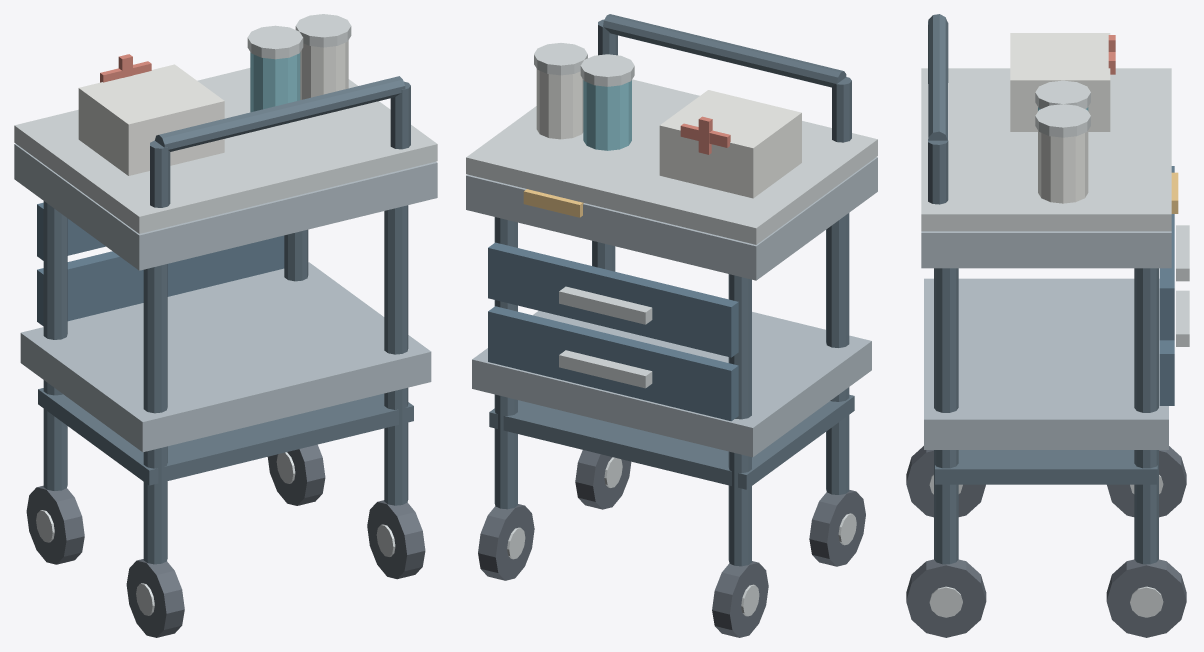
The model's file is infirmary_medical_trolley.glb.
3 views of the same model, side by side, from view 1: azimuth 30°, elevation 25°; view 2: azimuth 150°, elevation 25°; view 3: azimuth 270°, elevation 25° (orthographic). The views are drawn at different scales.
Visible parts, largest first — view 1: infirmary_medical_trolley:steel, infirmary_medical_trolley:steel_dark, infirmary_medical_trolley:steel_light, infirmary_medical_trolley:white, infirmary_medical_trolley:rubber, infirmary_medical_trolley:navy, infirmary_medical_trolley:plastic_blue, infirmary_medical_trolley:red; view 2: infirmary_medical_trolley:steel, infirmary_medical_trolley:steel_light, infirmary_medical_trolley:steel_dark, infirmary_medical_trolley:navy, infirmary_medical_trolley:white, infirmary_medical_trolley:rubber, infirmary_medical_trolley:plastic_blue, infirmary_medical_trolley:red, infirmary_medical_trolley:warning; view 3: infirmary_medical_trolley:steel, infirmary_medical_trolley:steel_light, infirmary_medical_trolley:steel_dark, infirmary_medical_trolley:rubber, infirmary_medical_trolley:white, infirmary_medical_trolley:navy.
Part boxes in pixels (box(x1,y1,x2,y2)): infirmary_medical_trolley:steel: box(14, 143, 437, 452); infirmary_medical_trolley:steel_dark: box(38, 76, 413, 564); infirmary_medical_trolley:steel_light: box(14, 14, 437, 615); infirmary_medical_trolley:white: box(78, 40, 348, 175); infirmary_medical_trolley:rubber: box(26, 444, 425, 637); infirmary_medical_trolley:navy: box(37, 202, 284, 326); infirmary_medical_trolley:plastic_blue: box(250, 52, 300, 123); infirmary_medical_trolley:red: box(100, 54, 151, 82); infirmary_medical_trolley:steel: box(466, 157, 877, 457); infirmary_medical_trolley:steel_light: box(466, 43, 877, 616); infirmary_medical_trolley:steel_dark: box(489, 14, 854, 566); infirmary_medical_trolley:navy: box(488, 242, 738, 421); infirmary_medical_trolley:white: box(536, 69, 801, 198); infirmary_medical_trolley:rubber: box(478, 450, 865, 637); infirmary_medical_trolley:plastic_blue: box(583, 80, 631, 150); infirmary_medical_trolley:red: box(680, 116, 730, 154); infirmary_medical_trolley:warning: box(523, 189, 583, 217); infirmary_medical_trolley:steel: box(921, 231, 1171, 449); infirmary_medical_trolley:steel_light: box(921, 68, 1189, 617); infirmary_medical_trolley:steel_dark: box(928, 14, 1158, 564); infirmary_medical_trolley:rubber: box(906, 446, 1186, 637); infirmary_medical_trolley:white: box(1010, 33, 1110, 203); infirmary_medical_trolley:navy: box(1159, 166, 1174, 405).
Size of the model in its own units: 0.62 by 1.01 by 0.5095.
